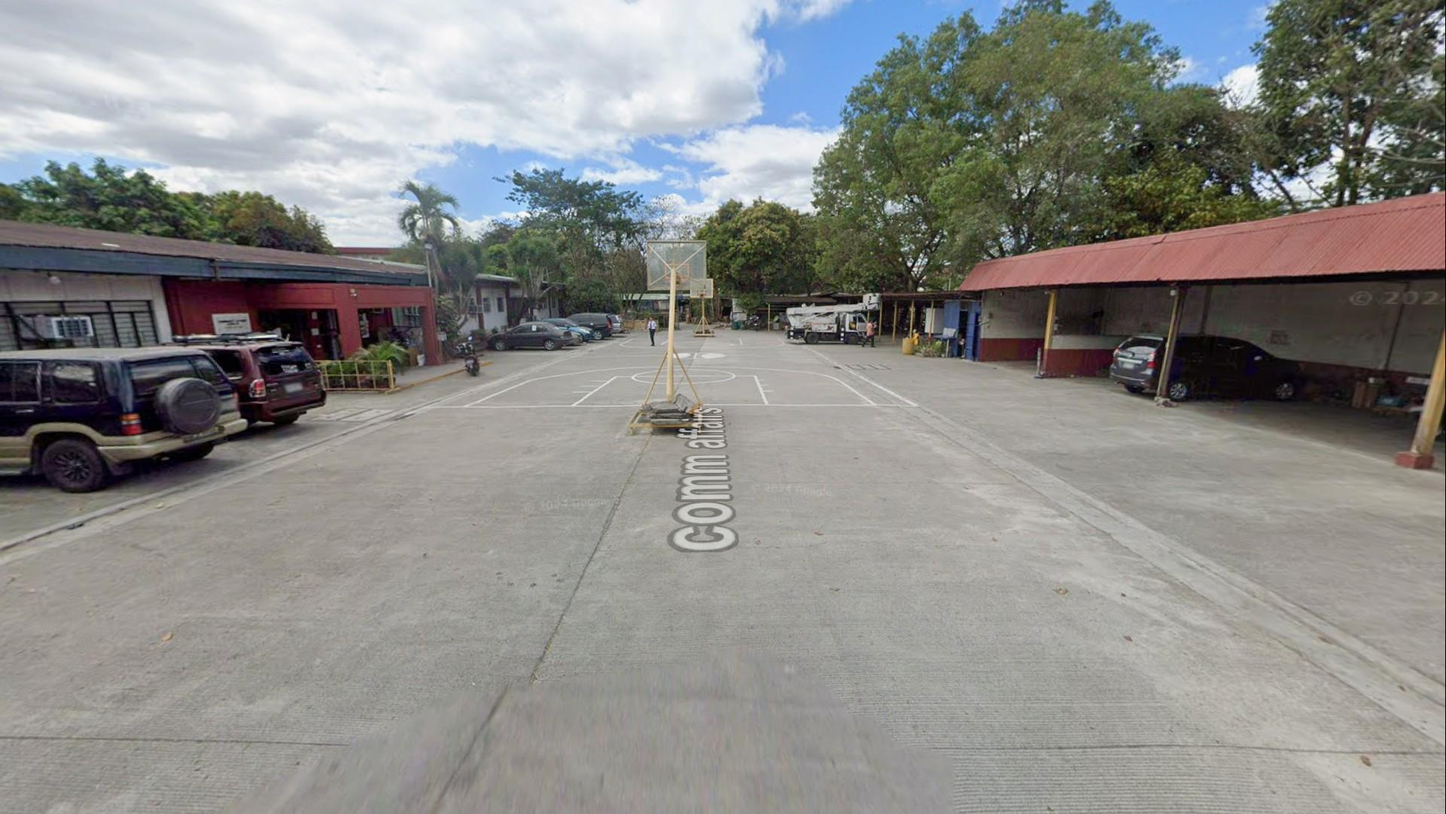pedestrian: (861, 317, 878, 349), (647, 316, 658, 346)
